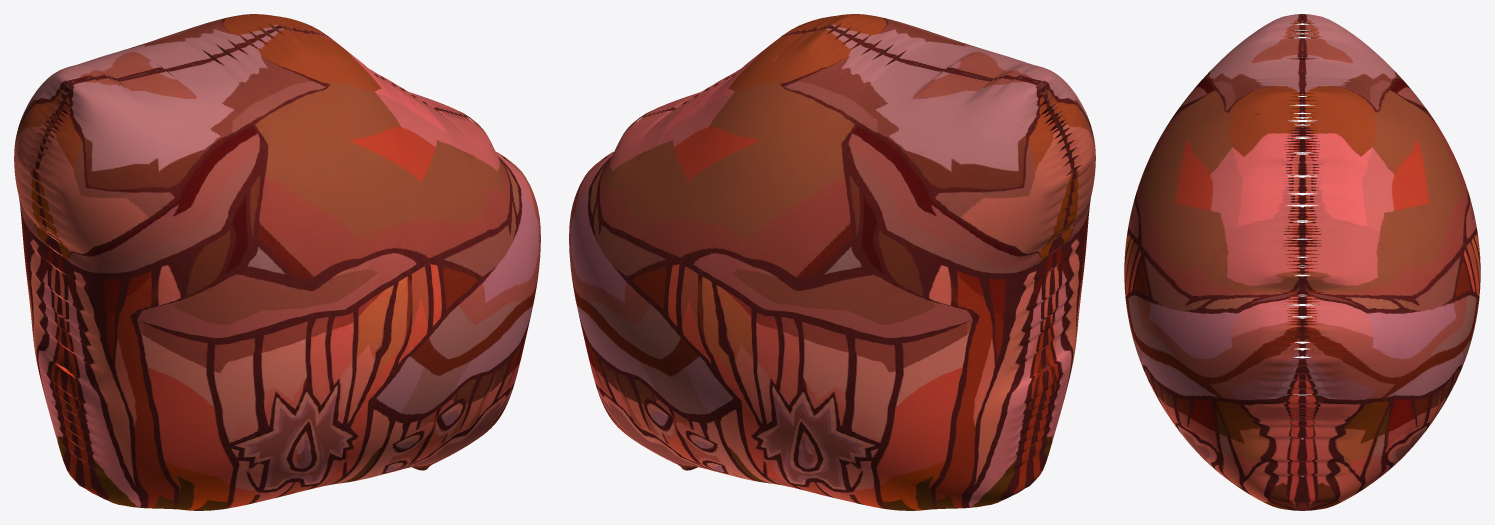
Rendered from west_buttress.glb.
The picture shows the model from 3 angles, left to right: view 1: azimuth 30°, elevation 25°; view 2: azimuth 150°, elevation 25°; view 3: azimuth 270°, elevation 25°; orthographic projection. The views are drawn at different scales.
Visible parts, largest first — view 1: west_buttress; view 2: west_buttress; view 3: west_buttress.
Boxes of the visible parts, x1,y1,x2,y2 form: west_buttress: (14,14,540,510); west_buttress: (569,14,1095,510); west_buttress: (1124,14,1480,510).
Bounding box in the file's own units: 0.989 × 0.8715 × 0.7947.
1 material, 1 textured.
